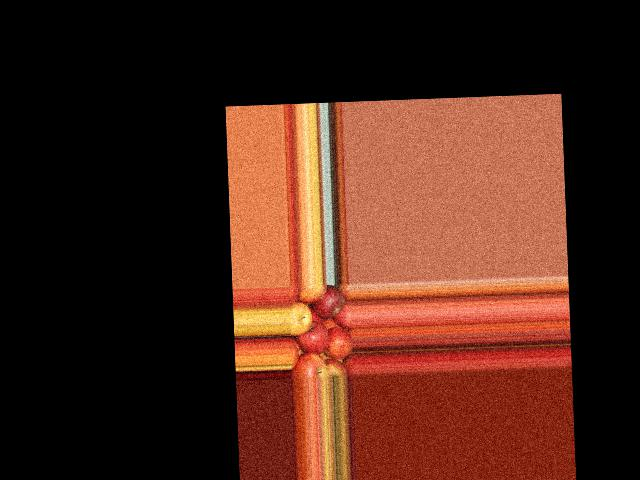apple: (322, 324, 351, 360)
